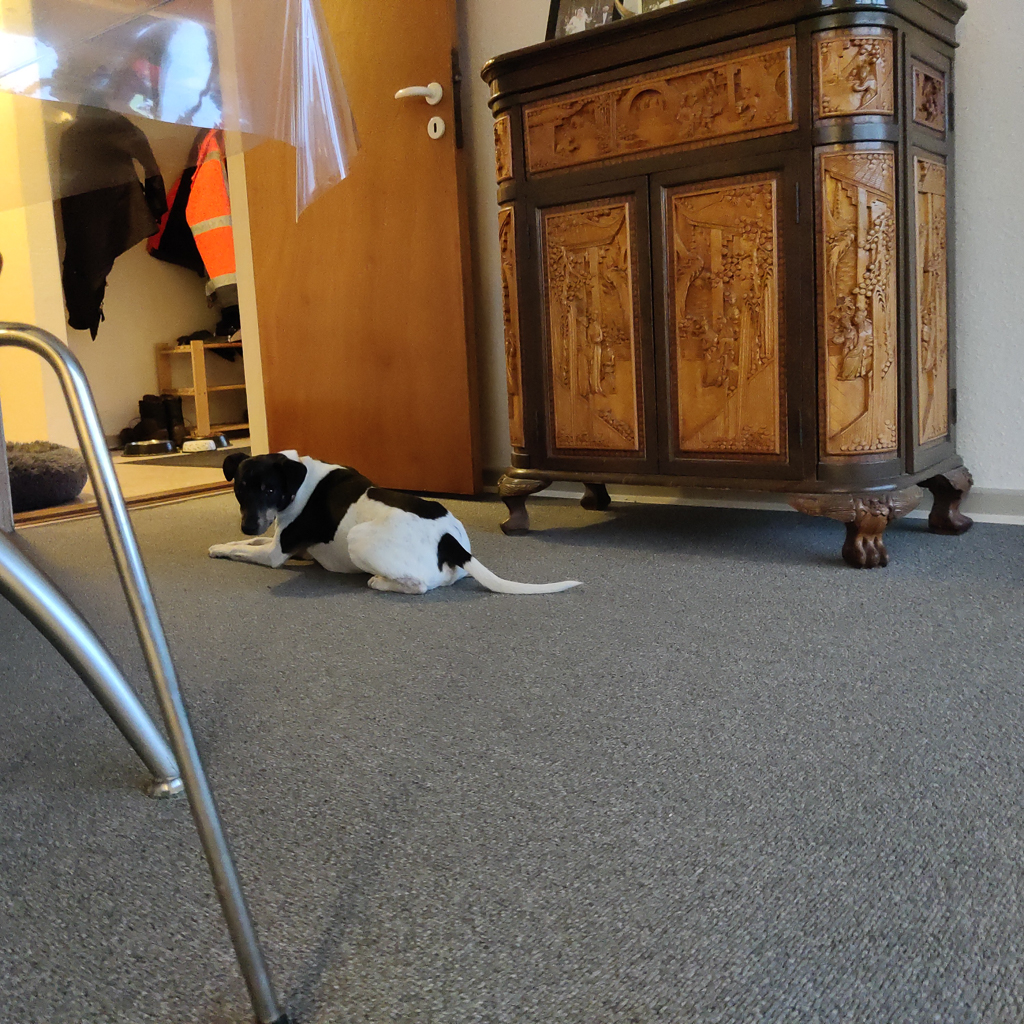Dog: (187, 438, 603, 609)
